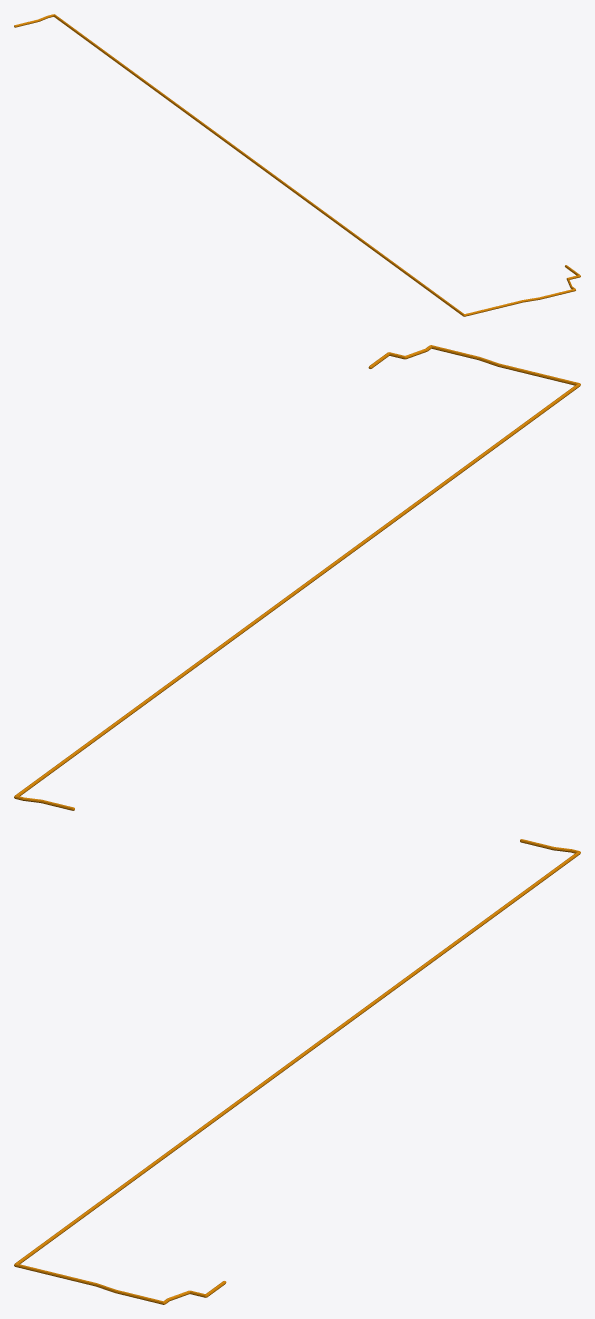
The picture shows the model from 3 angles, top to bottom: view 1: azimuth 30°, elevation 25°; view 2: azimuth 150°, elevation 25°; view 3: azimuth 330°, elevation 25°; orthographic projection. The views are drawn at different scales.
Size of the model in its own units: 1445 by 20 by 6091.
